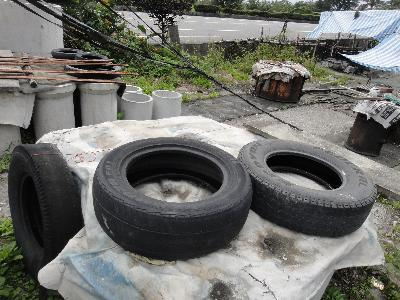bucket: (121, 92, 153, 123), (151, 88, 183, 119)
plastic_bag: (304, 8, 400, 41), (341, 34, 399, 69)
tire: (92, 137, 253, 261), (236, 139, 378, 238), (7, 142, 81, 292), (51, 45, 78, 62)
